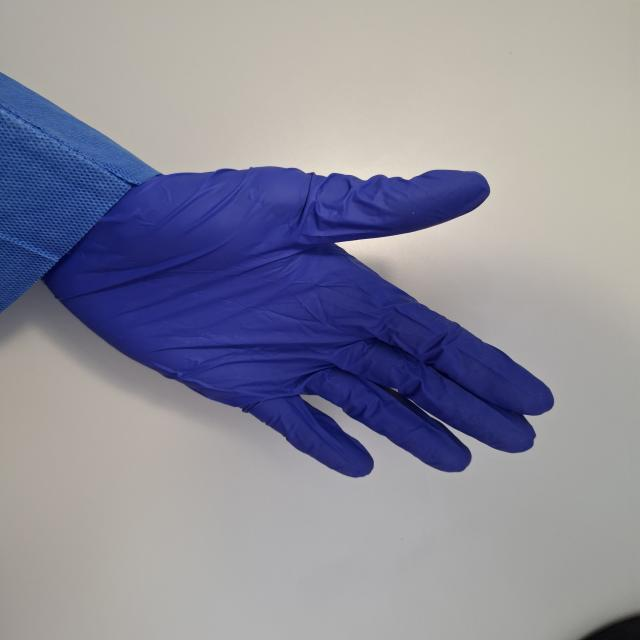glove_on: (32, 163, 561, 481)
